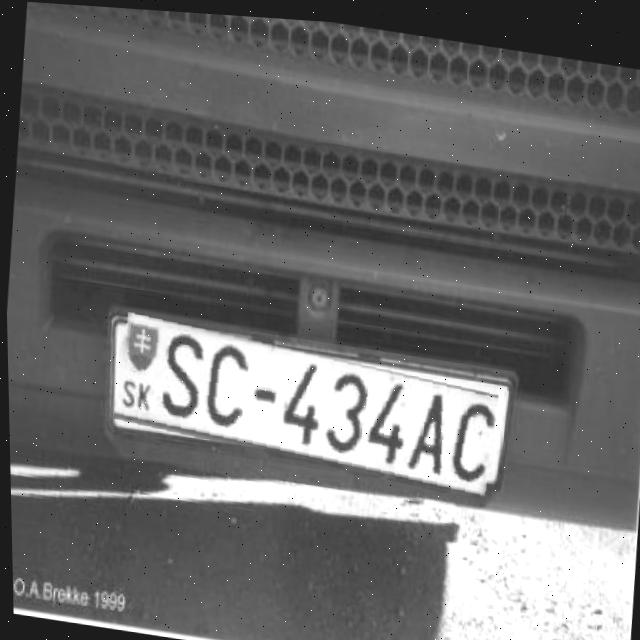LicensePlate: (109, 315, 499, 490)
